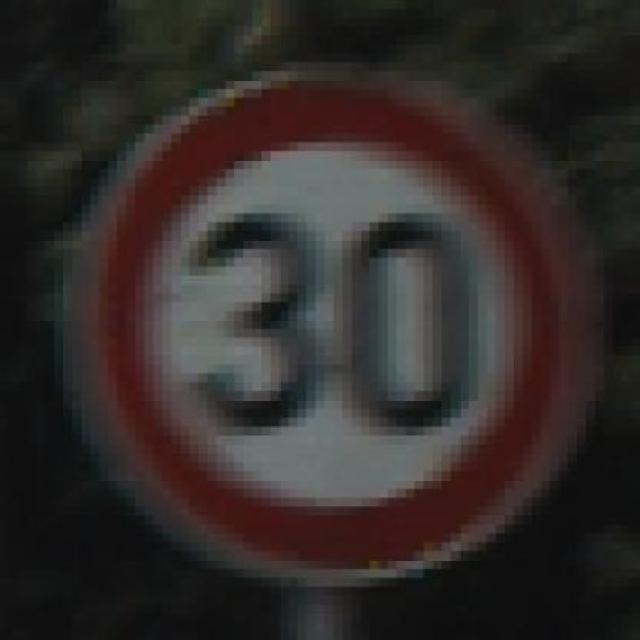Speed Limit 30 KMPh: (36, 36, 613, 596)
